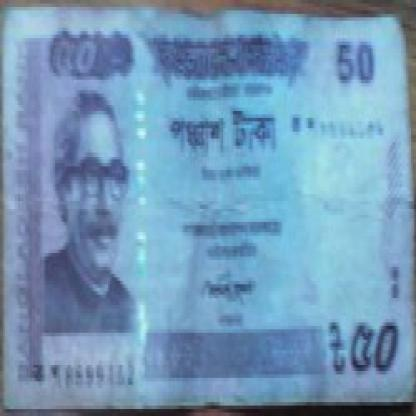Fifty taka: (342, 315, 408, 382), (45, 14, 96, 90)
